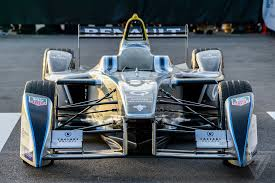FormulaOneCar: (17, 11, 261, 175)
